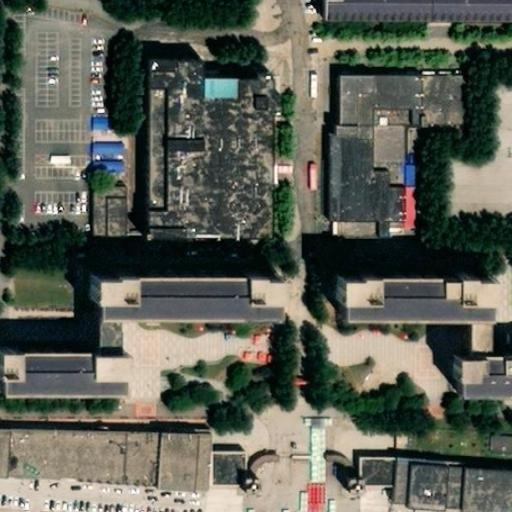building: (162, 54, 296, 241), (11, 427, 283, 494), (341, 89, 479, 158), (326, 0, 512, 44), (98, 281, 279, 324), (363, 462, 512, 512), (348, 279, 503, 322), (6, 352, 131, 396), (463, 354, 512, 402), (88, 181, 128, 234), (304, 416, 325, 486), (89, 136, 124, 154), (92, 155, 124, 171), (488, 429, 512, 449), (89, 112, 109, 130), (46, 148, 70, 162), (287, 371, 309, 384)
